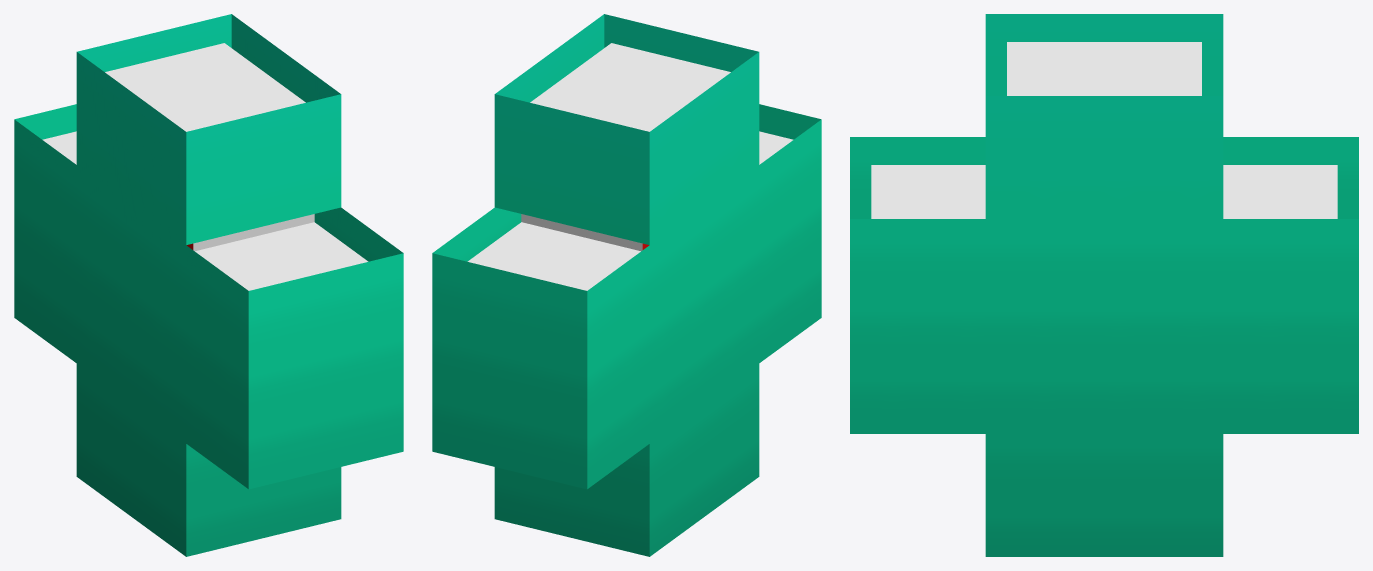
Rendered from health_booster.fbx.
3 renders of one model, left to right at view 1: azimuth 30°, elevation 25°; view 2: azimuth 150°, elevation 25°; view 3: azimuth 270°, elevation 25°, orthographic. The views are drawn at different scales.
Parts seen in each view (by area): view 1: health_booster; view 2: health_booster; view 3: health_booster.
Boxes of the visible parts, bbox=[...] form: health_booster: bbox=[14, 14, 403, 556]; health_booster: bbox=[432, 14, 821, 556]; health_booster: bbox=[850, 14, 1358, 556].
Bounding box in the file's own units: 0.7173 × 1.88 × 1.88.
